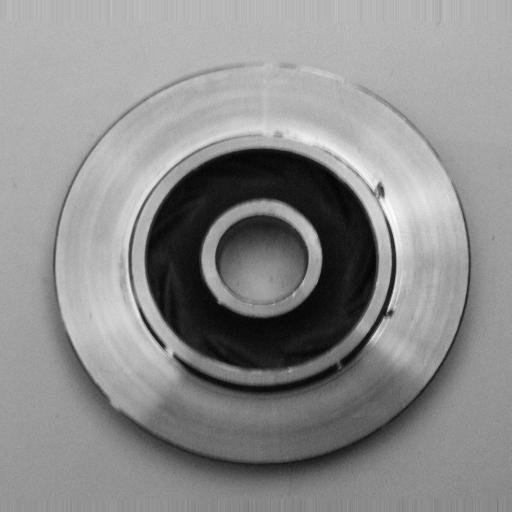crack: (368, 175, 395, 212), (379, 294, 402, 333)
scratch: (254, 124, 334, 152), (155, 334, 206, 372)
unpolished_casting: (52, 59, 472, 468)
